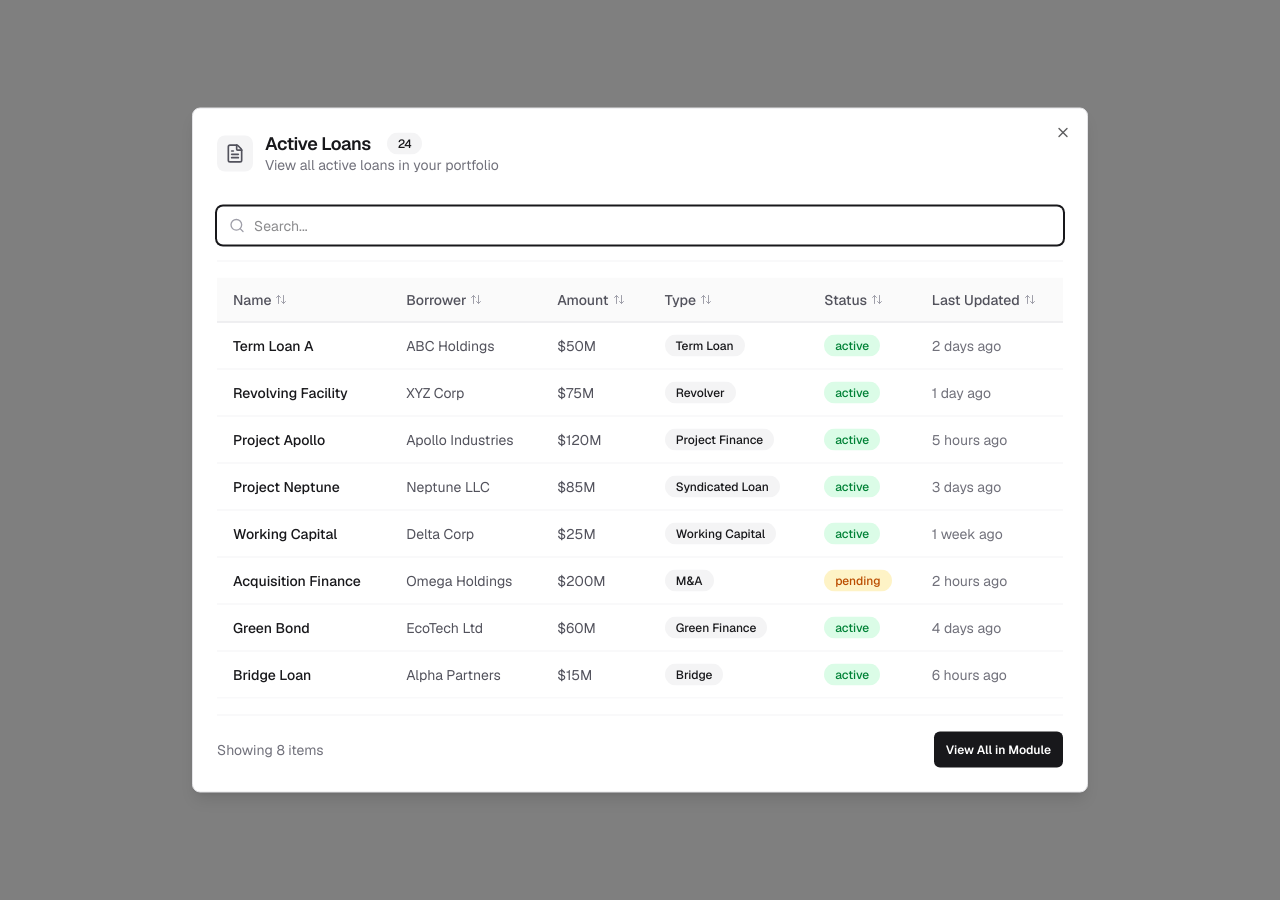
Test: StatDrilldownModal › Sorting functionality › shows ascending sort icon when column is clicked
Click the column heading with test id "sort-column-0": (252, 300) [217,278,390,322]
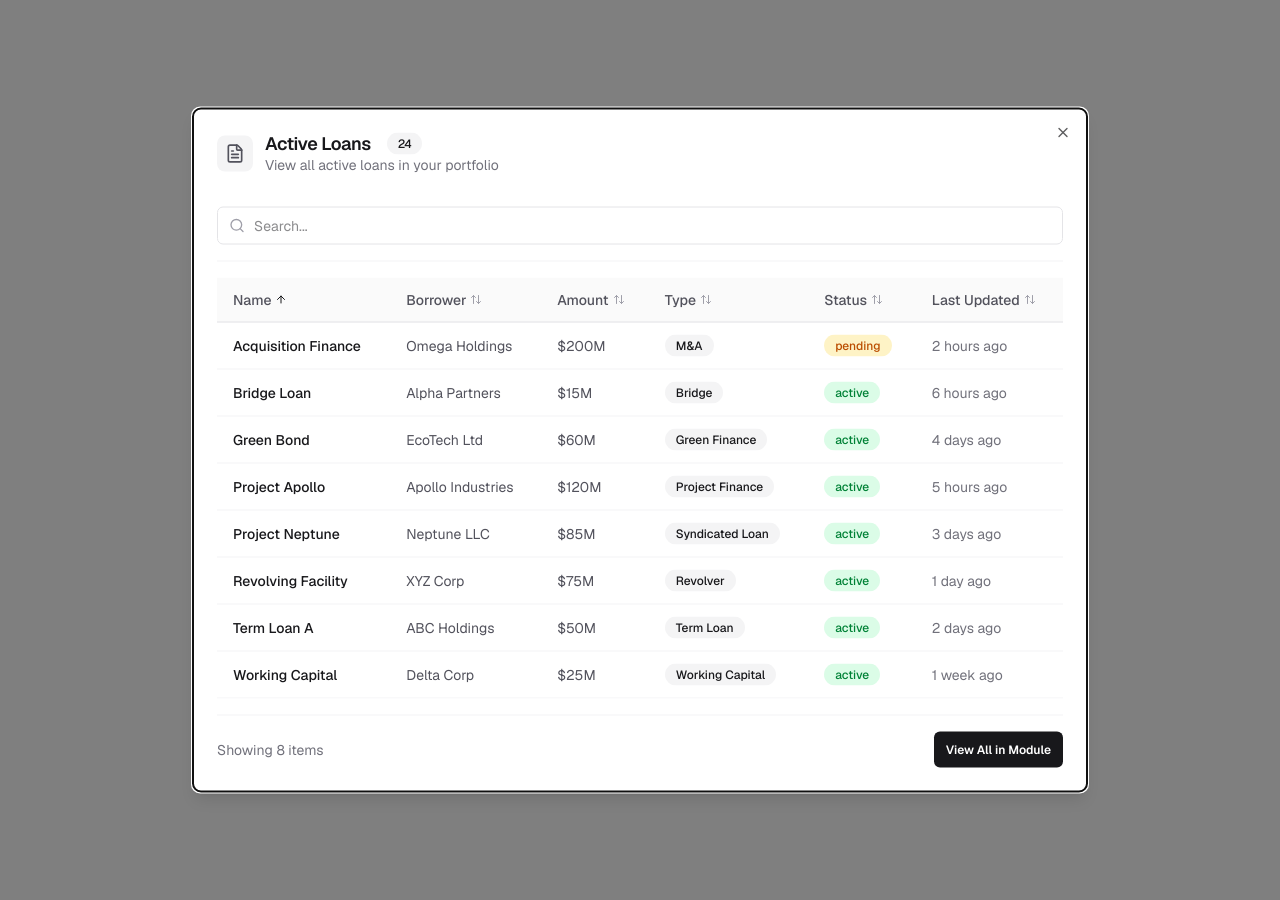
Expected: the icon with test id "sort-asc-0" is shown, [276,294,288,306]
